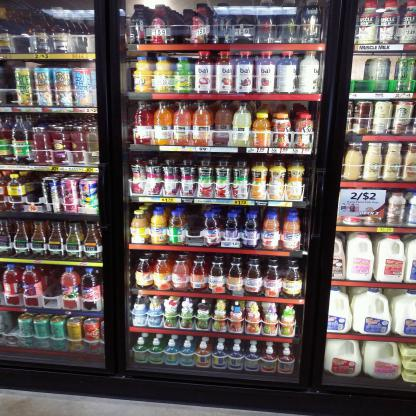Void: (43, 272, 62, 310), (185, 210, 206, 244), (25, 176, 41, 211), (2, 73, 15, 108)
